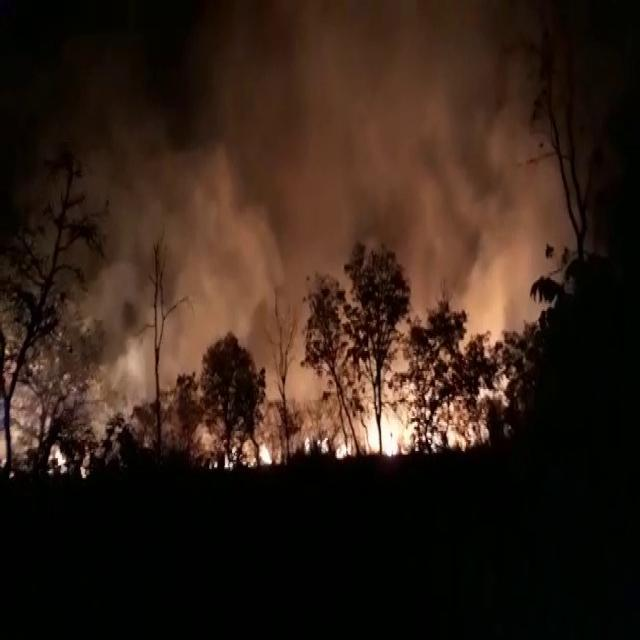Fire: (34, 402, 492, 474)
Smoke: (140, 0, 560, 343)
